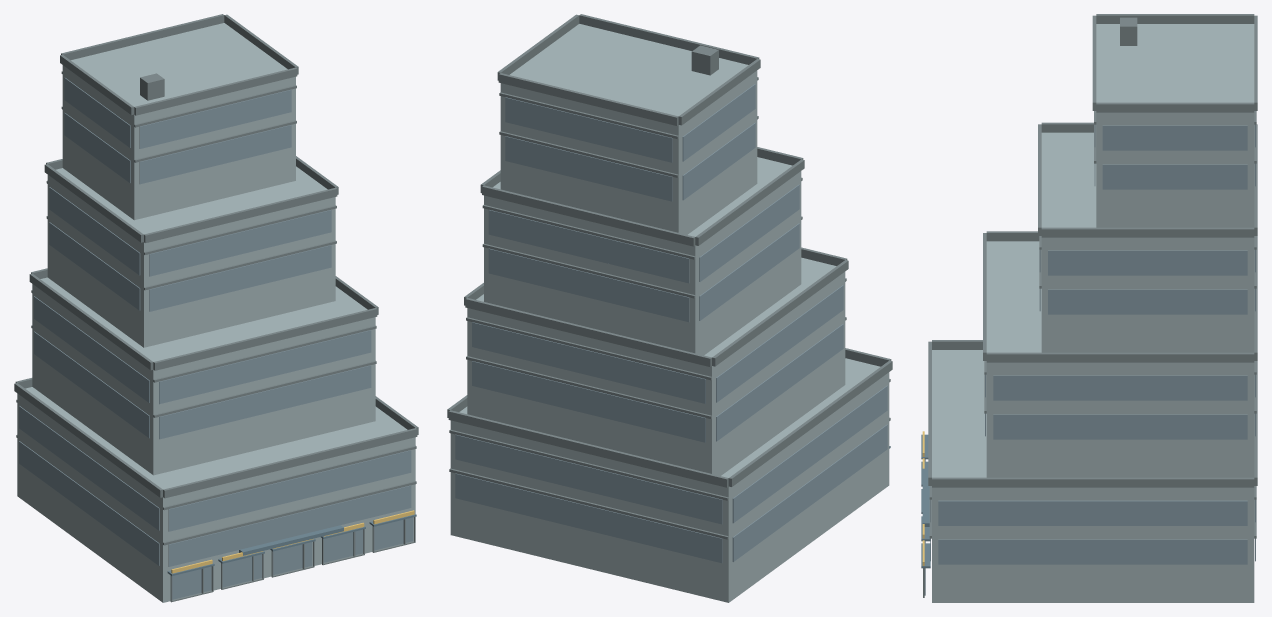
Rendered from commercial_3x3_terraces.glb.
3 renders of one model, left to right at view 1: azimuth 30°, elevation 25°; view 2: azimuth 150°, elevation 25°; view 3: azimuth 270°, elevation 25°, orthographic. The views are drawn at different scales.
Visible parts, largest first — view 1: commercial_3x3_terraces_0; view 2: commercial_3x3_terraces_0; view 3: commercial_3x3_terraces_0.
Boxes of the visible parts, left/top/right/bottom form: commercial_3x3_terraces_0: left=14, top=14, right=418, bottom=602; commercial_3x3_terraces_0: left=447, top=14, right=892, bottom=602; commercial_3x3_terraces_0: left=921, top=14, right=1257, bottom=602.
Size of the model in its own units: 23 by 37.5 by 23.5.
